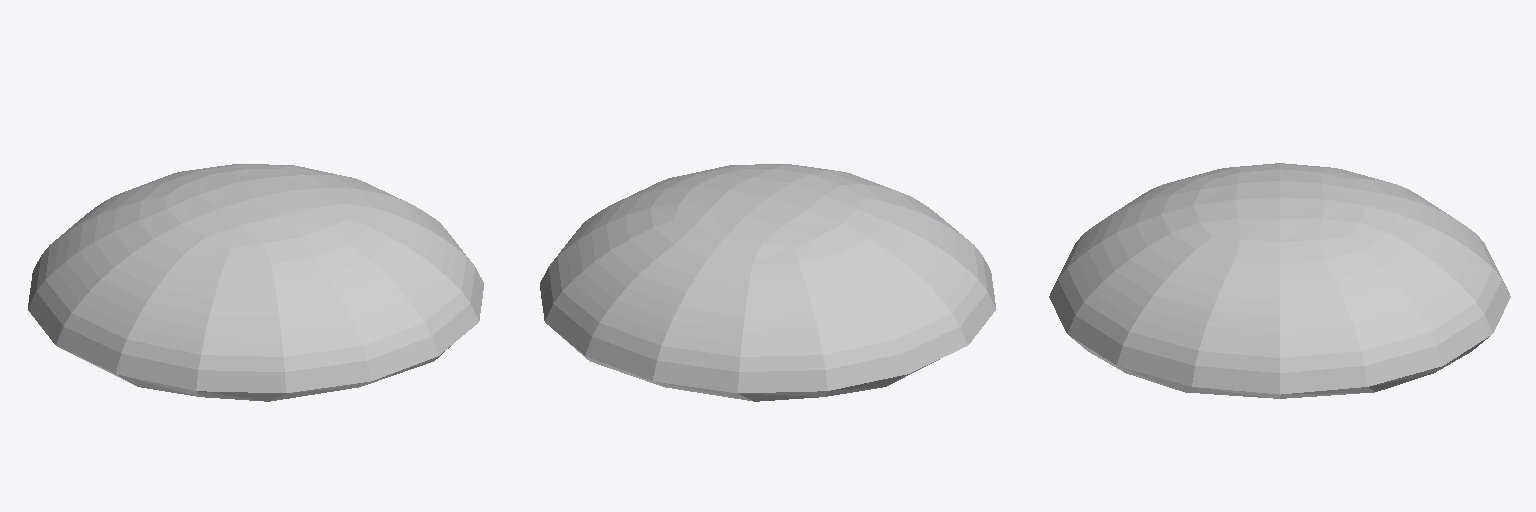
Rendered from Bun_top_v05.obj.
3 views of the same model, side by side, from view 1: azimuth 30°, elevation 25°; view 2: azimuth 150°, elevation 25°; view 3: azimuth 270°, elevation 25° (orthographic).
Visible parts, largest first — view 1: bun_top_v05; view 2: bun_top_v05; view 3: bun_top_v05.
Boxes of the visible parts, <box> form: bun_top_v05: <box>28,164,483,401</box>; bun_top_v05: <box>540,164,995,401</box>; bun_top_v05: <box>1049,163,1510,398</box>.
Size of the model in its own units: 27.65 by 7.73 by 27.65.